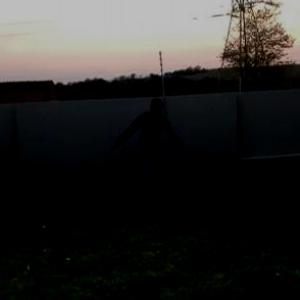land: (102, 91, 195, 219)
